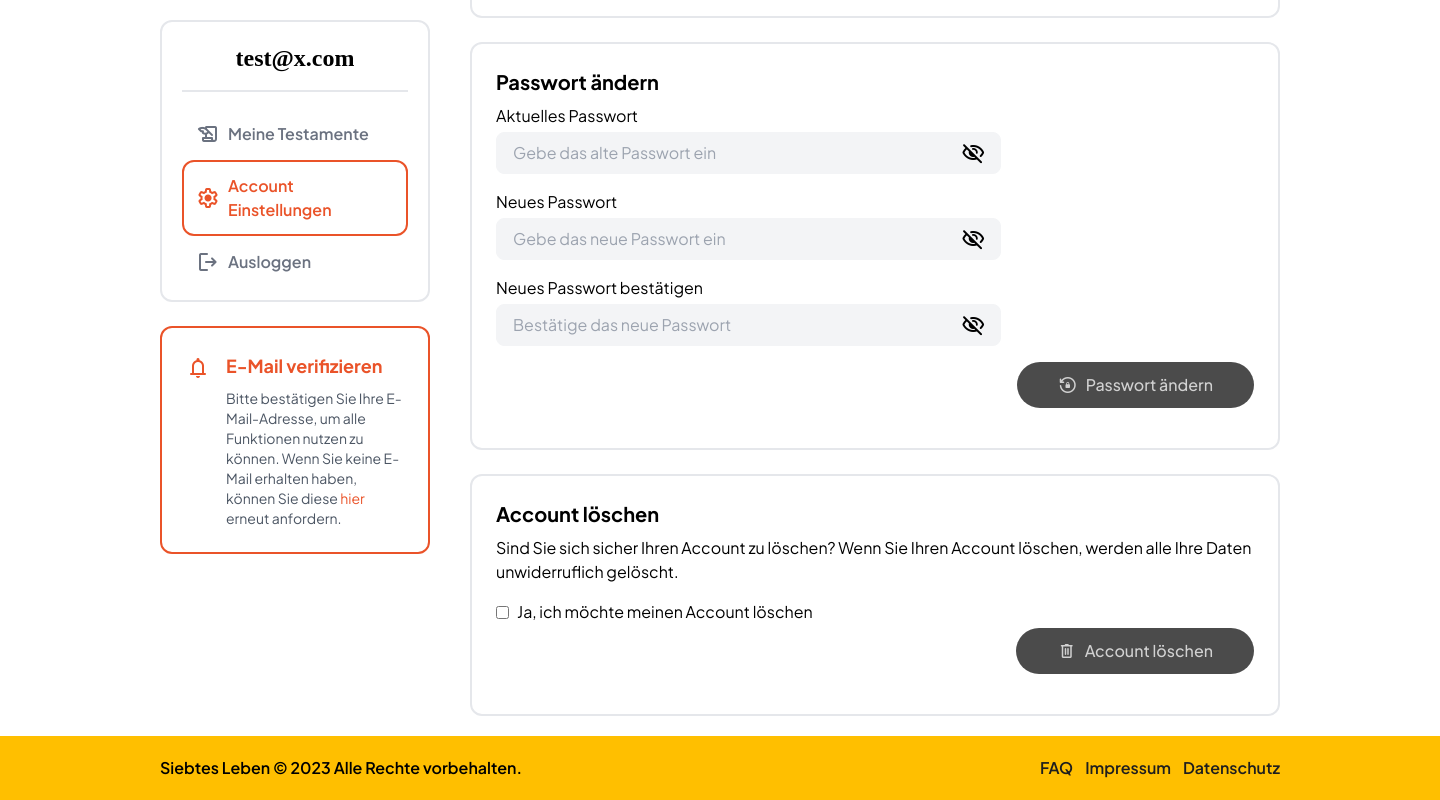
Test: Account Settings › Delete Account › should show error message when something went wrong
(page scrolled)
Click the label "Ja, ich möchte meinen Account löschen". click: (655, 612)
box: [496,601,813,622]
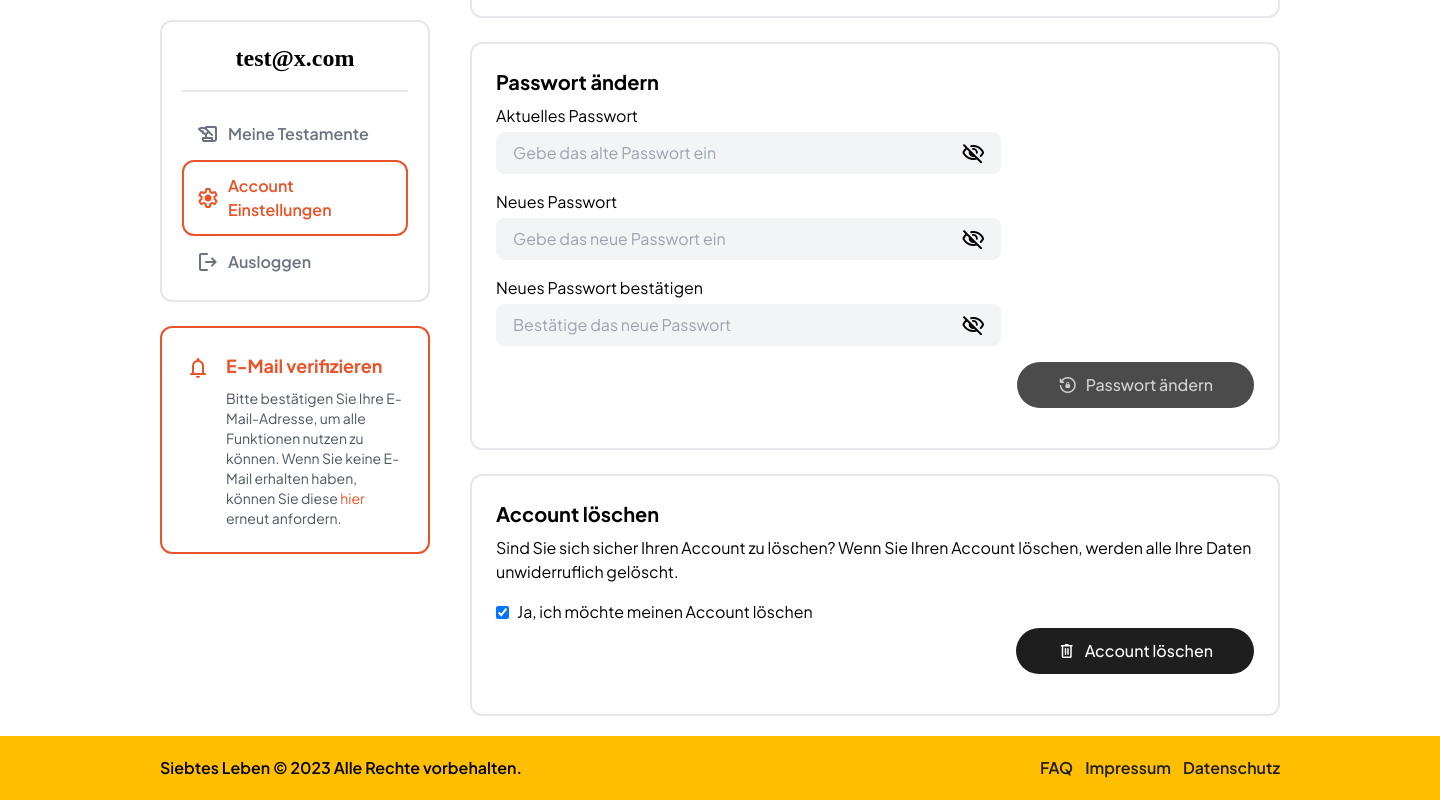
Click the button "Account löschen". click: (1135, 651)
box: [1016,628,1254,674]
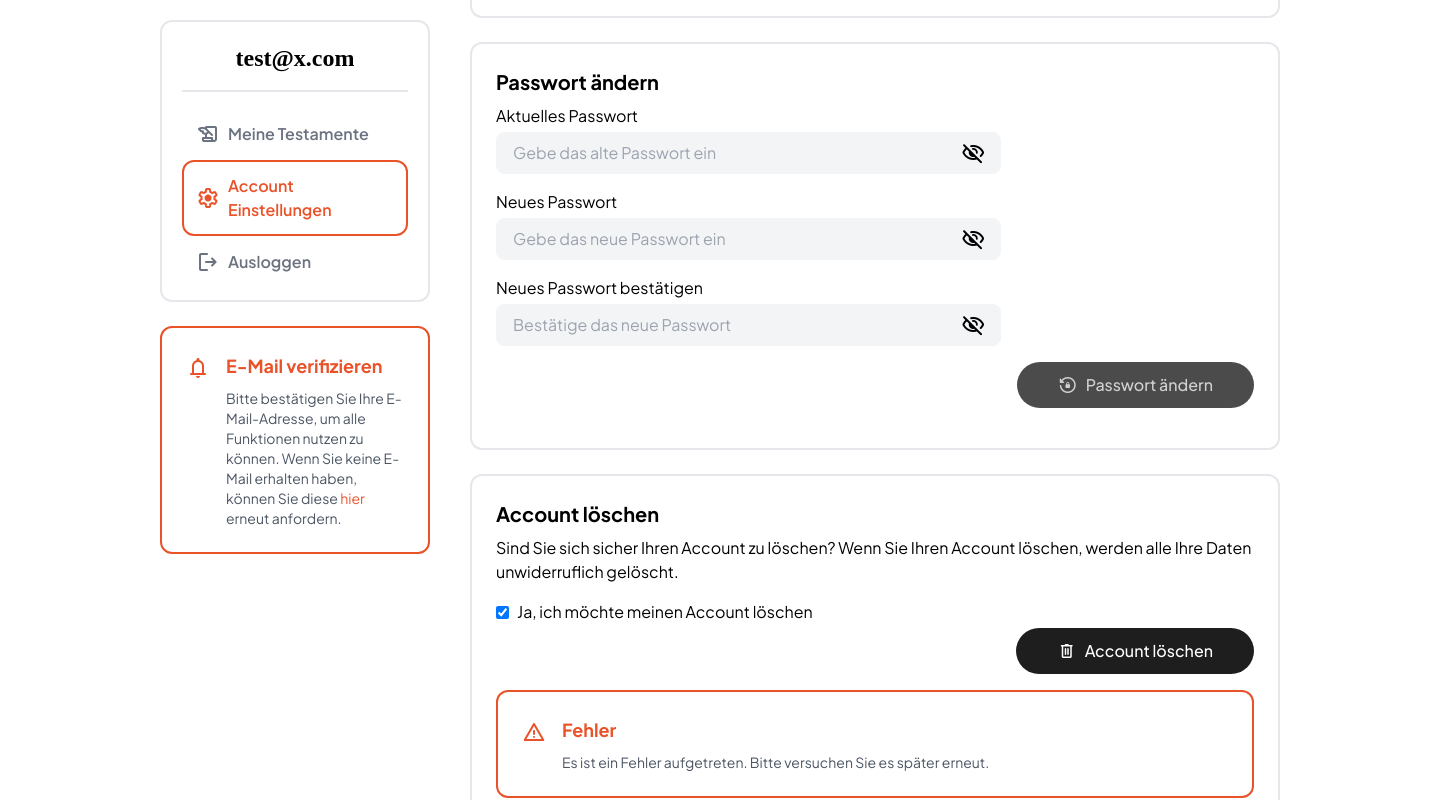
Result: the heading "Fehler" is shown at [562,718,616,741]
Result: the text "Es ist ein Fehler aufgetreten. Bitte versuchen Sie es später erneut." is shown at [562,752,989,772]
